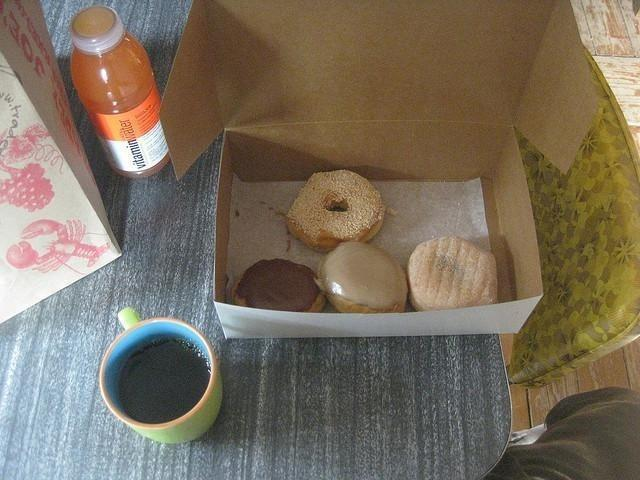bottle-plastic: (71, 7, 170, 179)
cup-handle: (99, 306, 222, 445)
